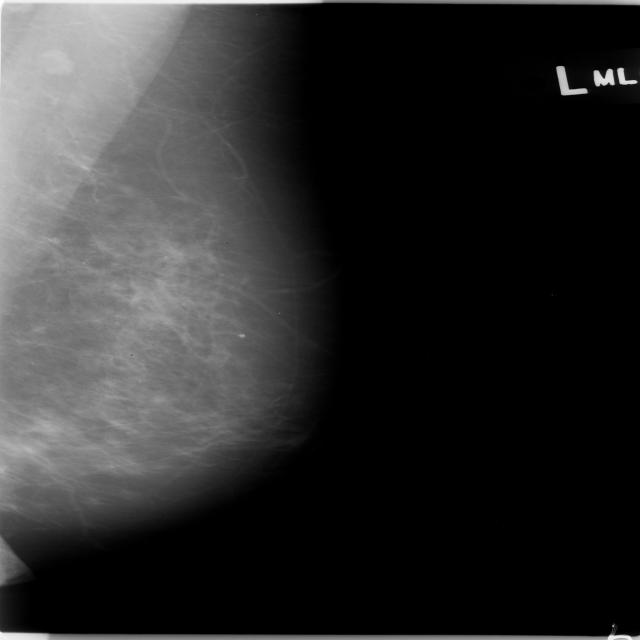normal: (0, 1, 343, 544)
